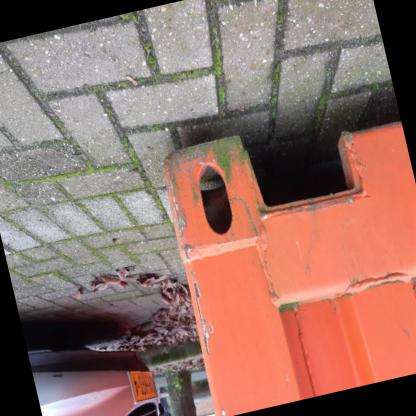CornerCasting: (153, 126, 272, 268)
